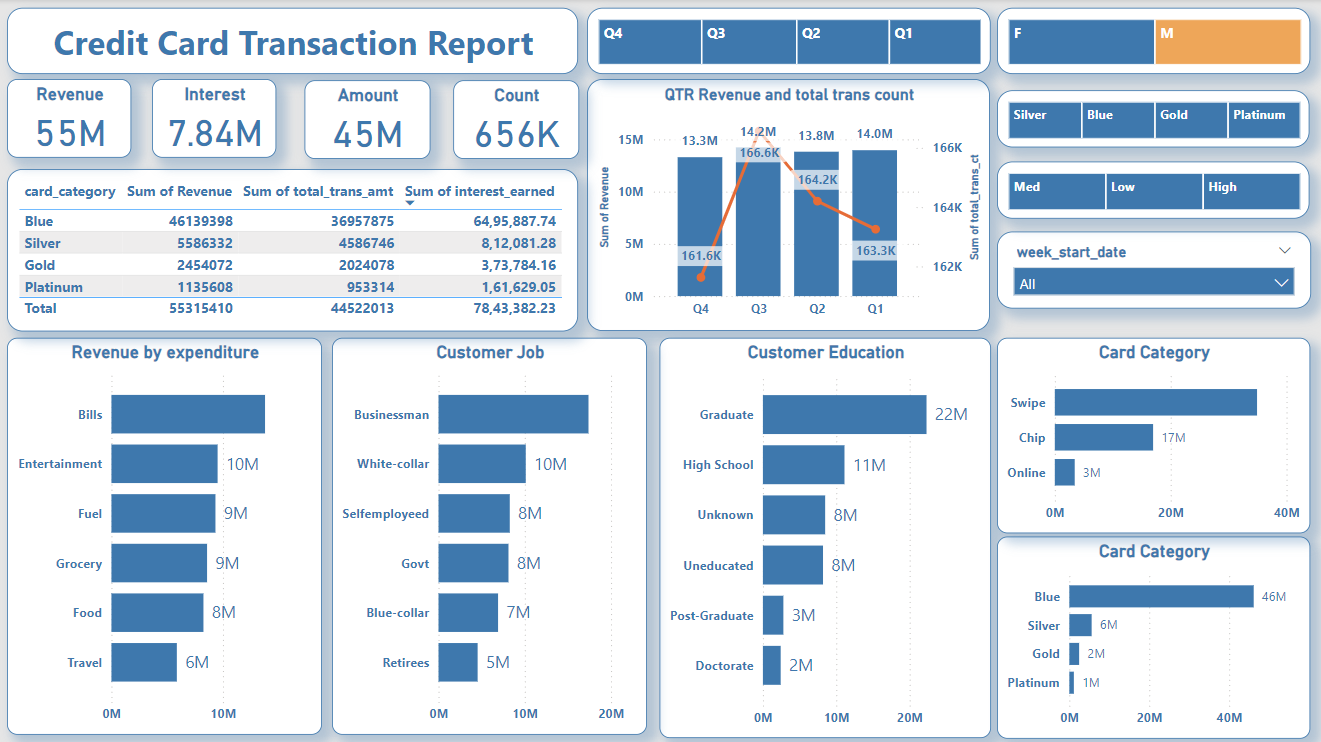

What the dashboard file says about the page in this screenshot:
{"tool":"powerbi","page":{"name":"Credit Card ","canvas":[1280,720],"ordinal":0},"visuals":[{"type":"textbox","box":[10,8.8,551.2,63.8],"z":0},{"type":"lineStackedColumnComboChart","title":"QTR Revenue and total trans count","fields":{"Category":["public cc_detail.qtr"],"Y":["Sum(public cc_detail.Revenue)"],"Y2":["Sum(public cc_detail.total_trans_ct)"]},"box":[570,77.5,389.2,243.3],"z":1000},{"type":"barChart","title":"Revenue  by expenditure","fields":{"Y":["Sum(public cc_detail.Revenue)"],"Category":["public cc_detail.exp_type"]},"box":[9.2,327.5,304.2,383.3],"z":2000},{"type":"barChart","title":"Customer Education ","fields":{"Y":["Sum(public cc_detail.Revenue)"],"Category":["public cust_detail.education_level"]},"box":[639.2,327.5,320,386.7],"z":3000},{"type":"barChart","title":"Customer Job  ","fields":{"Y":["Sum(public cc_detail.Revenue)"],"Category":["public cust_detail.customer_job"]},"box":[323.3,327.5,304.2,383.3],"z":4000},{"type":"barChart","title":"Card Category ","fields":{"Y":["Sum(public cc_detail.Revenue)"],"Category":["public cc_detail.card_category"]},"box":[965,518.8,302.5,195],"z":5000},{"type":"barChart","title":"Card Category ","fields":{"Y":["Sum(public cc_detail.Revenue)"],"Category":["public cc_detail.use_chip"]},"box":[965,327.5,302.5,188.8],"z":6000},{"type":"tableEx","fields":{"Values":["public cc_detail.card_category","Sum(public cc_detail.Revenue)","Sum(public cc_detail.total_trans_amt)","Sum(public cc_detail.interest_earned)"]},"box":[10,164.2,550.8,156.7],"z":7000},{"type":"card","title":"Revenue","fields":{"Values":["Sum(public cc_detail.Revenue)"]},"box":[10,77.5,120,75.8],"z":8000},{"type":"card","title":"Interest","fields":{"Values":["Sum(public cc_detail.interest_earned)"]},"box":[150,77.5,120,76.2],"z":9000},{"type":"card","title":"Amount","fields":{"Values":["Sum(public cc_detail.total_trans_amt)"]},"box":[296.2,78.8,121.2,76.2],"z":10000},{"type":"card","title":"Count","fields":{"Values":["Sum(public cc_detail.total_trans_ct)"]},"box":[440,78.8,121.2,76.2],"z":11000},{"type":"slicer","fields":{"Values":["public cc_detail.week_start_date"]},"box":[965.2,224.4,302.8,74.8],"z":12000},{"type":"treemap","fields":{"Group":["public cc_detail.qtr"],"Values":["Avg(public cust_detail.client_num)"]},"box":[570,8.9,389.5,63.7],"z":13000},{"type":"treemap","fields":{"Values":["Avg(public cust_detail.client_num)"],"Group":["public cust_detail.gender"]},"box":[965,8.8,302.5,63.8],"z":14000},{"type":"treemap","fields":{"Values":["Avg(public cust_detail.client_num)"],"Group":["public cc_detail.card_category"]},"box":[965.2,88.1,301.6,55.5],"z":15000},{"type":"treemap","fields":{"Values":["Avg(public cust_detail.client_num)"],"Group":["public cust_detail.IncomeGroup"]},"box":[965.2,156.2,301.6,55.5],"z":16000}]}

Visuals, with their boxes in screenshot pixels (x1, y1, x2, y2), scaled from the page's 1280x720 canvas onto the 1321x742 screenshot:
textbox: rect(10, 9, 579, 75)
"QTR Revenue and total trans count" lineStackedColumnComboChart: rect(588, 80, 990, 331)
"Revenue  by expenditure" barChart: rect(9, 338, 323, 733)
"Customer Education " barChart: rect(660, 338, 990, 736)
"Customer Job  " barChart: rect(334, 338, 648, 733)
"Card Category " barChart: rect(996, 535, 1308, 736)
"Card Category " barChart: rect(996, 338, 1308, 532)
tableEx - public cc_detail.card_category x Sum(public cc_detail.Revenue): rect(10, 169, 579, 331)
"Revenue" card: rect(10, 80, 134, 158)
"Interest" card: rect(155, 80, 279, 158)
"Amount" card: rect(306, 81, 431, 160)
"Count" card: rect(454, 81, 579, 160)
slicer - public cc_detail.week_start_date: rect(996, 231, 1309, 308)
treemap - public cc_detail.qtr x Avg(public cust_detail.client_num): rect(588, 9, 990, 75)
treemap - Avg(public cust_detail.client_num) x public cust_detail.gender: rect(996, 9, 1308, 75)
treemap - Avg(public cust_detail.client_num) x public cc_detail.card_category: rect(996, 91, 1307, 148)
treemap - Avg(public cust_detail.client_num) x public cust_detail.IncomeGroup: rect(996, 161, 1307, 218)
